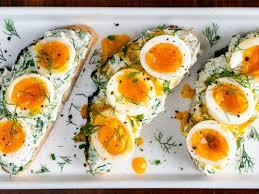eggs: (97, 27, 175, 171), (4, 24, 71, 163), (199, 28, 259, 178)
